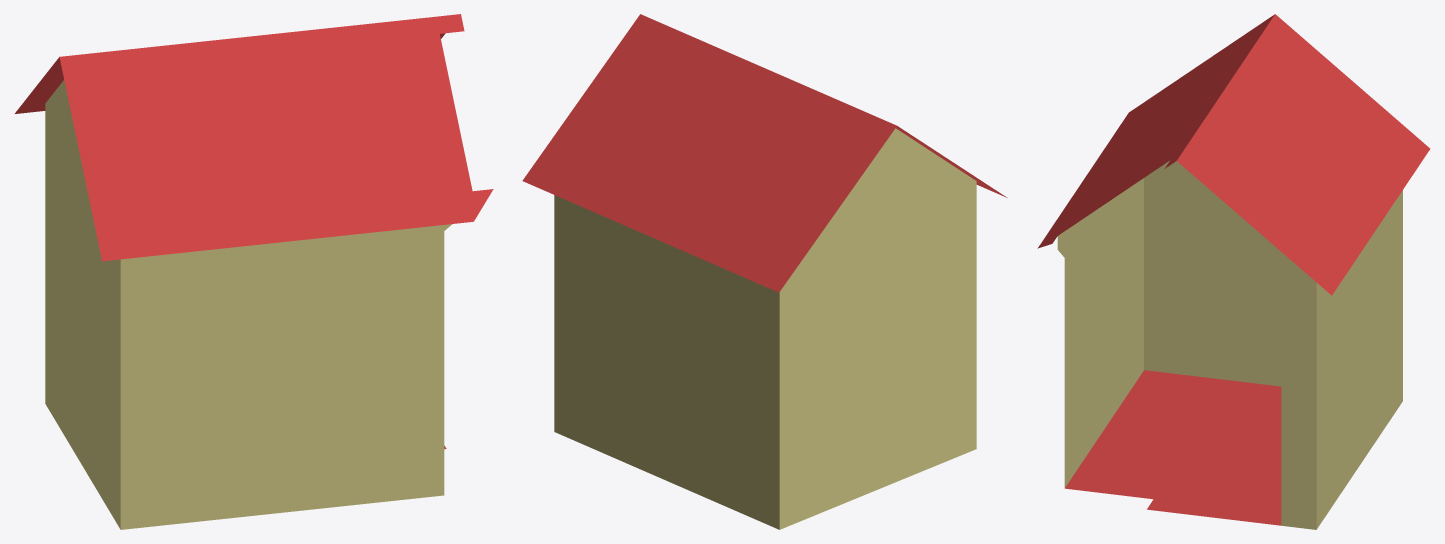
3 renders of one model, left to right at view 1: azimuth 30°, elevation 25°; view 2: azimuth 150°, elevation 25°; view 3: azimuth 270°, elevation 25°, orthographic. The views are drawn at different scales.
Bounding box in the file's own units: 14.58 × 13.23 × 13.44.
